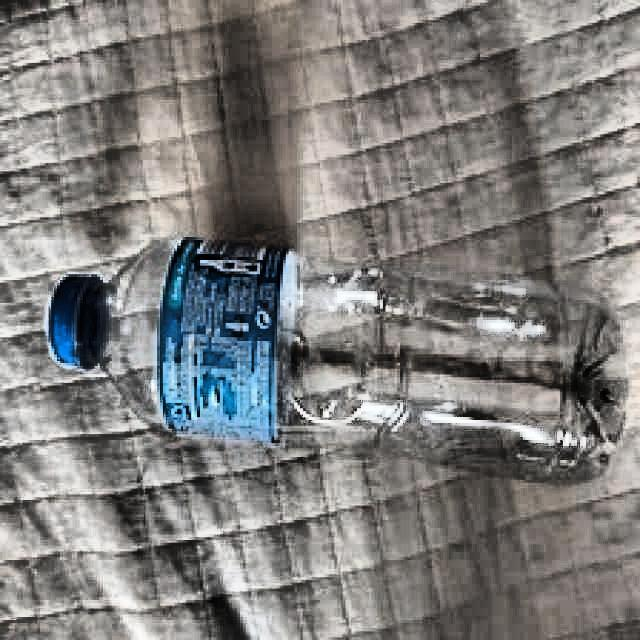plastic bottle: (47, 238, 629, 478)
